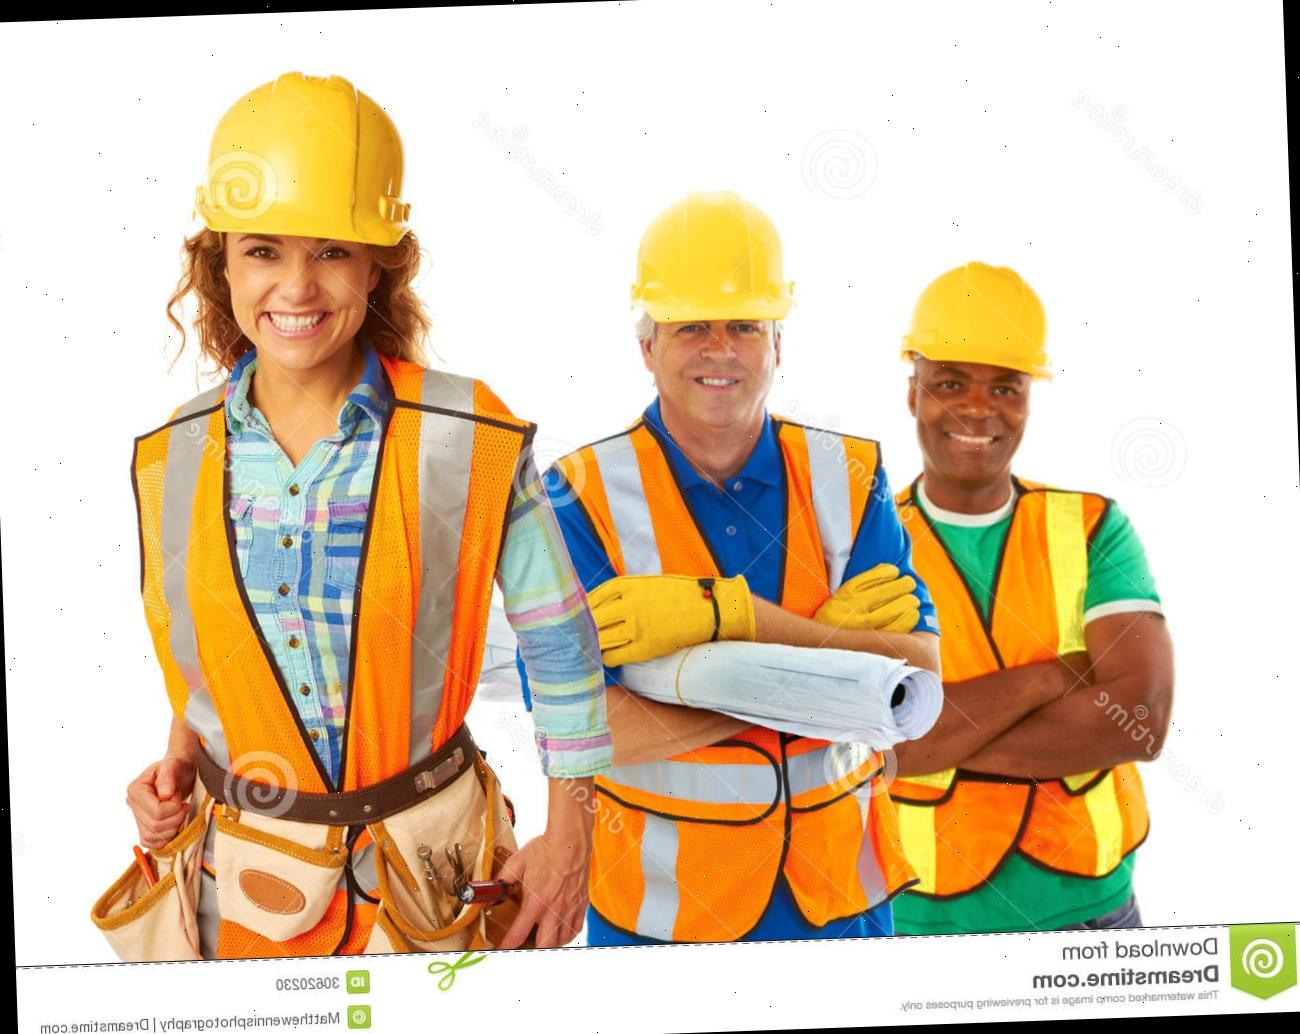helmet: (175, 68, 433, 267), (607, 179, 812, 350), (891, 256, 1064, 391)
wear: (135, 369, 530, 887), (544, 437, 888, 937), (879, 491, 1163, 916)
